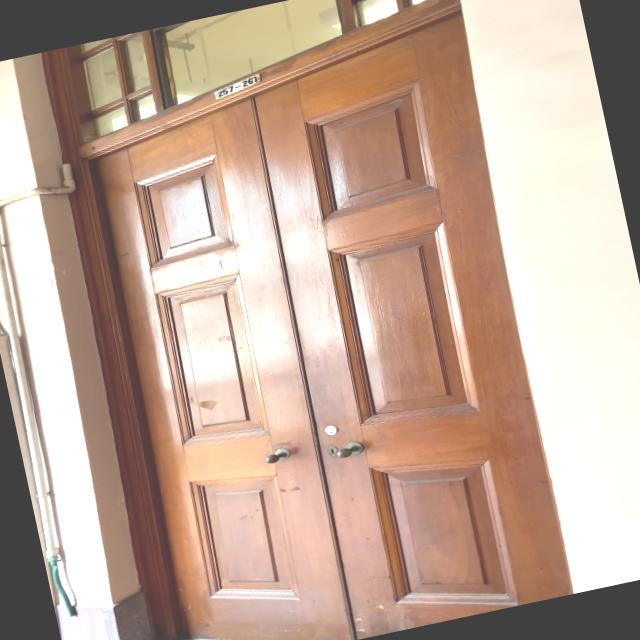room257: (202, 68, 270, 106)
room257door: (75, 0, 572, 640)
